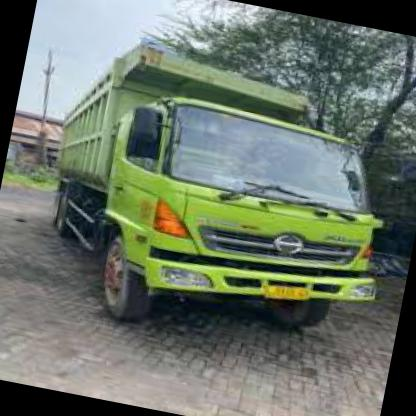truck: (81, 84, 401, 365)
